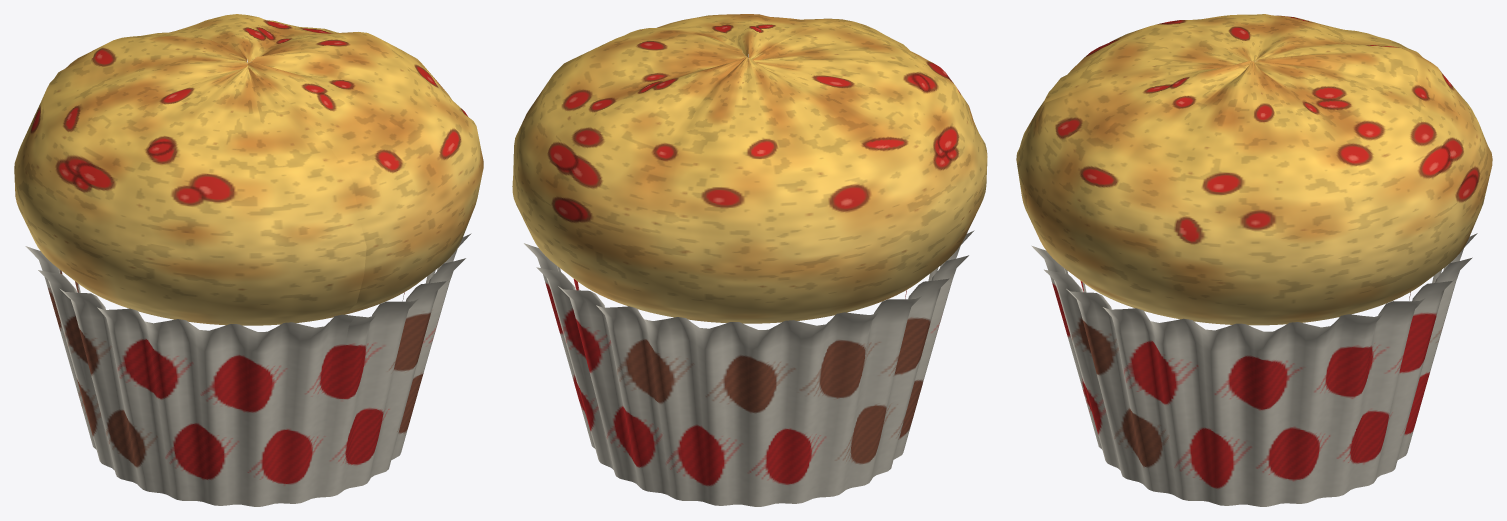
File: fruit_muffin.glb
The picture shows the model from 3 angles, left to right: view 1: azimuth 30°, elevation 25°; view 2: azimuth 150°, elevation 25°; view 3: azimuth 270°, elevation 25°; orthographic projection.
Visible parts, largest first — view 1: top, liner; view 2: top, liner; view 3: top, liner.
Boxes of the visible parts, x1,y1,x2,y2 form: top: (14, 14, 483, 325); liner: (25, 233, 471, 506); top: (512, 14, 987, 323); liner: (524, 230, 974, 506); top: (1016, 14, 1492, 325); liner: (1031, 233, 1477, 506).
Size of the model in its own units: 0.1051 by 0.0941 by 0.1057.
2 materials, 2 textured.
